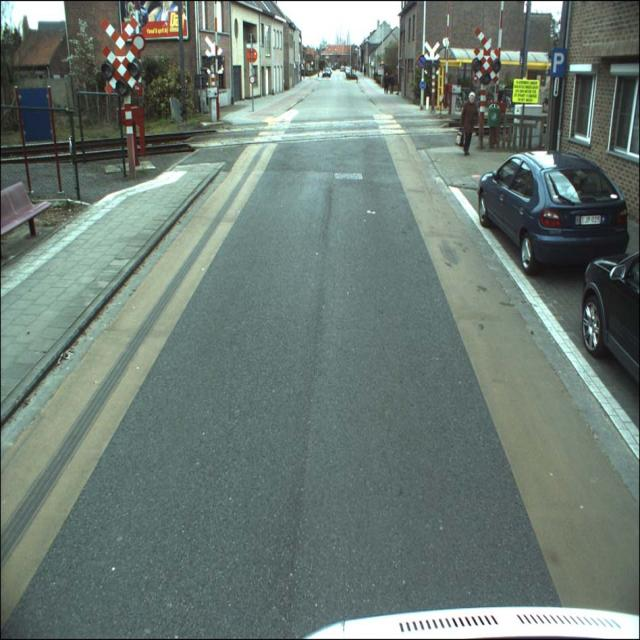park: (550, 49, 566, 78)
parkyasak: (418, 55, 428, 69)
